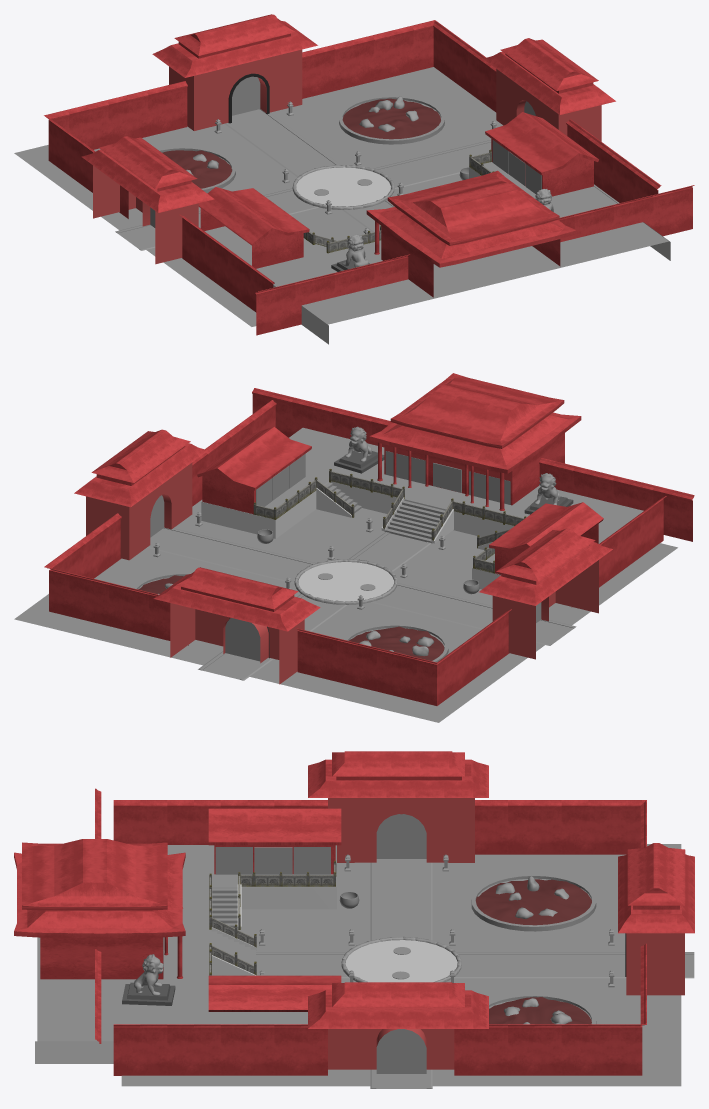
File: loc2_test.FBX
3 views of the same model, one above another, from view 1: azimuth 30°, elevation 25°; view 2: azimuth 150°, elevation 25°; view 3: azimuth 270°, elevation 25° (orthographic). The views are drawn at different scales.
Parts seen in each view (by area): view 1: centerCercle; view 2: centerCercle; view 3: centerCercle.
Boxes of the visible parts, bbox=[...] form: centerCercle: bbox=[14, 14, 694, 344]; centerCercle: bbox=[14, 373, 694, 722]; centerCercle: bbox=[14, 751, 694, 1088].
Bounding box in the file's own units: 3487 × 670 × 3812.
